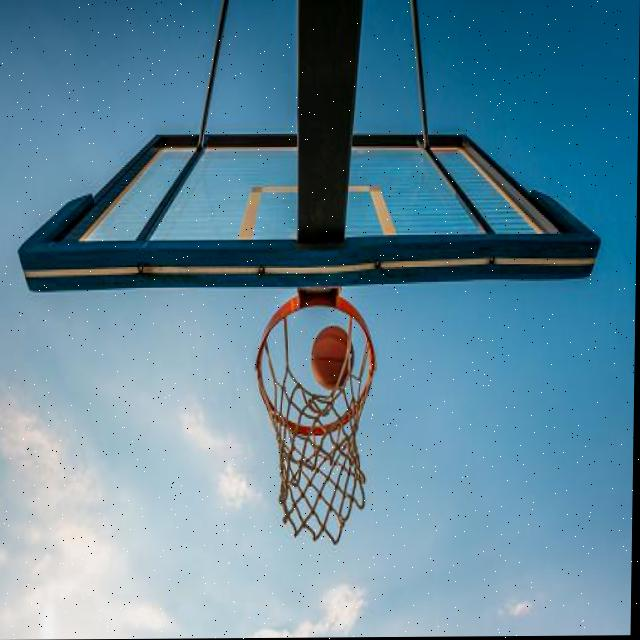basketball: (311, 326, 355, 389)
hoop: (253, 293, 377, 546)
